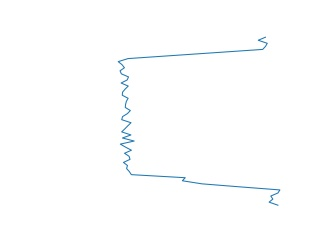distributaryChannelFill: (111, 38, 286, 206)
